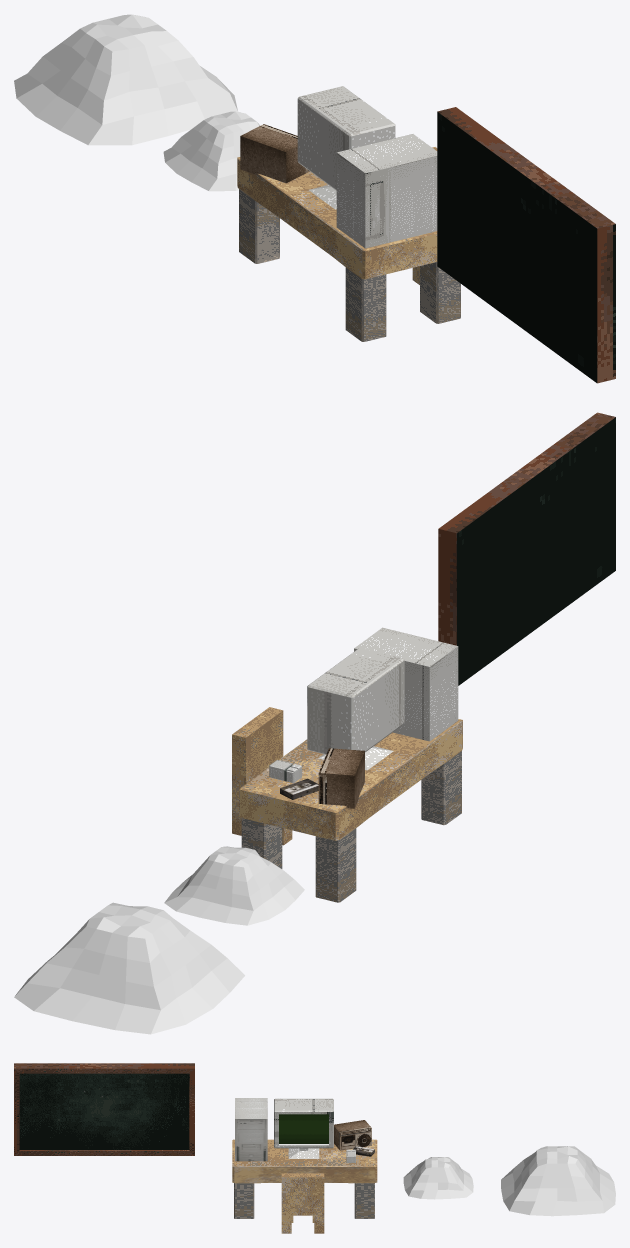
File: labpropsupd.glb
3 renders of one model, top to bottom at view 1: azimuth 30°, elevation 25°; view 2: azimuth 150°, elevation 25°; view 3: azimuth 270°, elevation 25°, orthographic. The views are drawn at different scales.
Visible parts, largest first — view 1: Cube.002, Garbage, Table, Systemunit, Monitor, SmallerGarb, Cube.001; view 2: Cube.002, Garbage, Table, Monitor, SmallerGarb, Systemunit, Chair, Cube.001; view 3: Cube.002, Garbage, Table, Monitor, SmallerGarb, Chair, Systemunit, Cube.001.
Boxes of the visible parts, x1,y1,x2,y2 form: Cube.002: (437, 107, 615, 383); Garbage: (14, 14, 237, 145); Table: (237, 157, 460, 341); Systemunit: (336, 134, 437, 248); Monitor: (297, 86, 395, 209); SmallerGarb: (163, 111, 260, 191); Cube.001: (240, 124, 309, 183); Cube.002: (438, 412, 615, 685); Garbage: (14, 902, 244, 1034); Table: (240, 719, 462, 902); Monitor: (307, 648, 404, 770); SmallerGarb: (164, 846, 304, 925); Systemunit: (354, 627, 458, 741); Chair: (232, 707, 292, 845); Cube.001: (318, 748, 364, 808); Cube.002: (14, 1063, 194, 1155); Garbage: (501, 1146, 615, 1216); Table: (232, 1139, 377, 1218); Monitor: (274, 1098, 333, 1158); SmallerGarb: (403, 1157, 473, 1199); Chair: (281, 1173, 324, 1233); Systemunit: (235, 1098, 267, 1161); Cube.001: (334, 1120, 371, 1150).
Bounding box in the file's own units: 6.05 × 7.5 × 29.27.
Materials: 8 (8 with a texture image).
